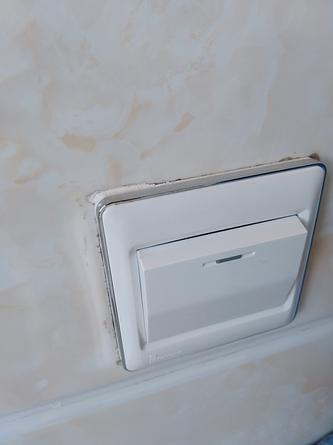switch: (134, 215, 306, 342)
